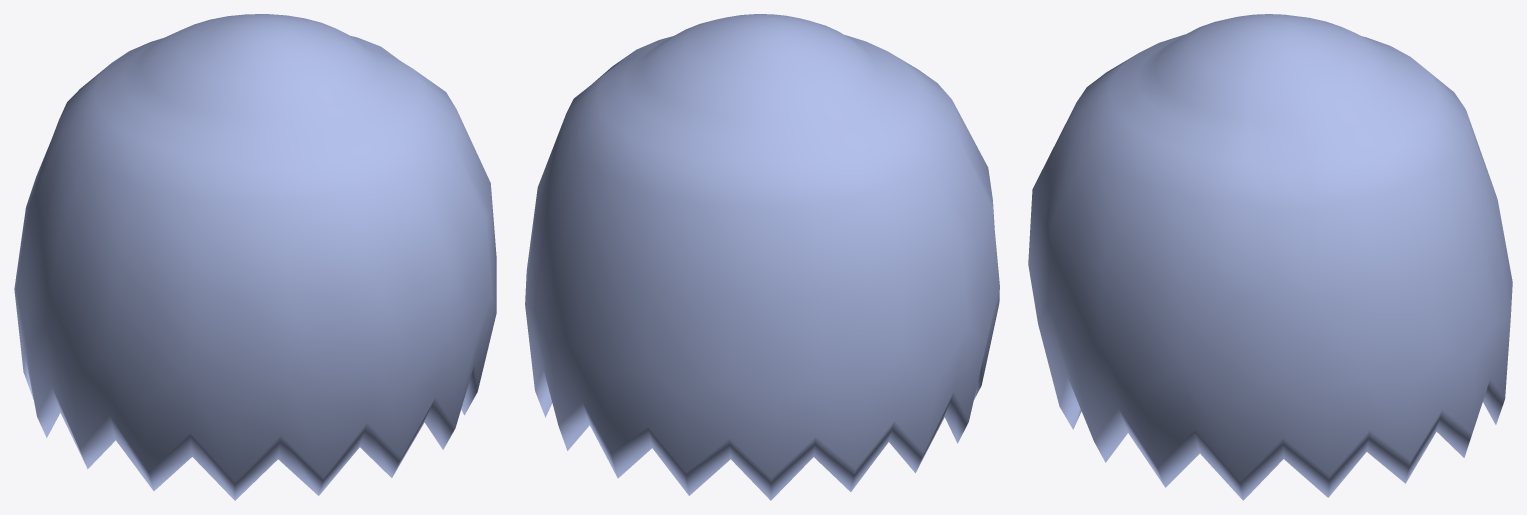
The model's file is jellyfish1.glb.
3 renders of one model, left to right at view 1: azimuth 30°, elevation 25°; view 2: azimuth 150°, elevation 25°; view 3: azimuth 270°, elevation 25°, orthographic.
Parts seen in each view (by area): view 1: jelly; view 2: jelly; view 3: jelly.
Part boxes in pixels (bbox=[...]): jelly: bbox=[14, 14, 496, 500]; jelly: bbox=[525, 14, 999, 500]; jelly: bbox=[1028, 14, 1512, 500].
Size of the model in its own units: 3.4 by 3 by 3.41.
